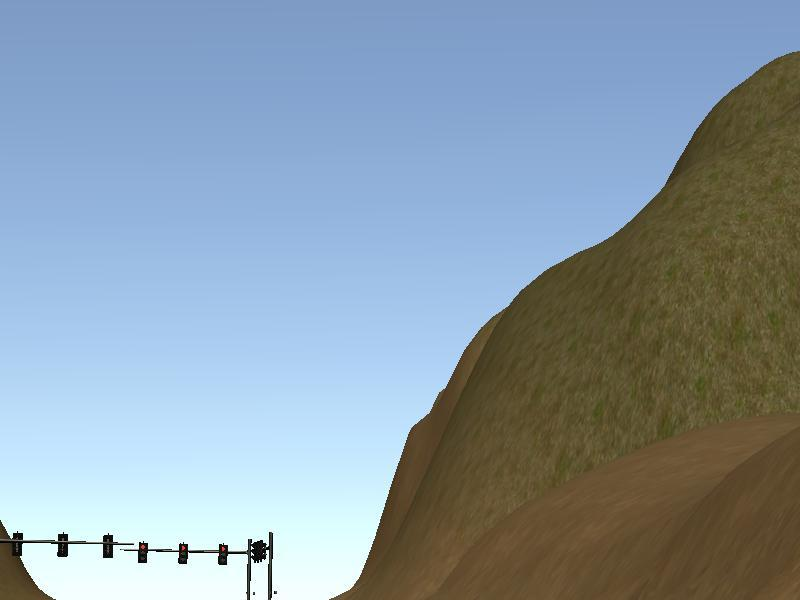Red: (177, 543, 188, 565), (137, 542, 147, 564), (218, 543, 227, 565)
